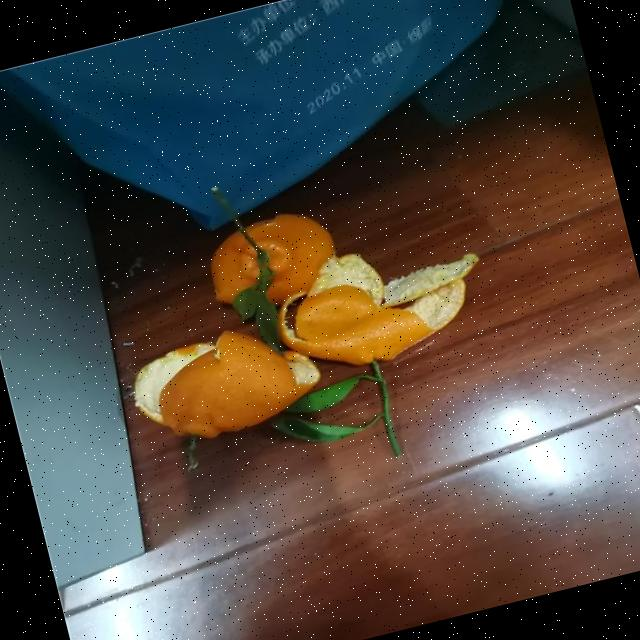orange-peel: (142, 309, 328, 450), (270, 263, 436, 385), (197, 200, 345, 320)
